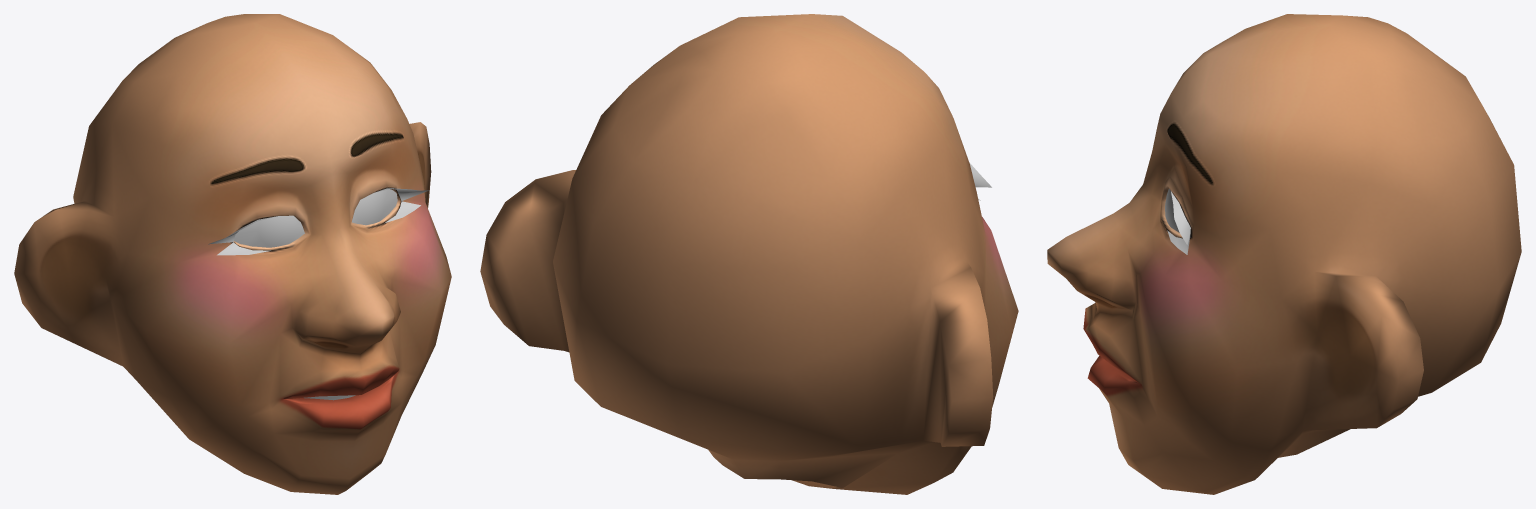
The model's file is F_sitpose03.fbx.
3 renders of one model, left to right at view 1: azimuth 30°, elevation 25°; view 2: azimuth 150°, elevation 25°; view 3: azimuth 270°, elevation 25°, orthographic. The views are drawn at different scales.
Parts seen in each view (by area): view 1: HEAD; view 2: HEAD; view 3: HEAD.
Boxes of the visible parts, left/top/right/bottom form: HEAD: left=14, top=14, right=451, bottom=494; HEAD: left=480, top=14, right=1018, bottom=494; HEAD: left=1047, top=14, right=1521, bottom=494.
Size of the model in its own units: 27.45 by 26.04 by 24.63.
